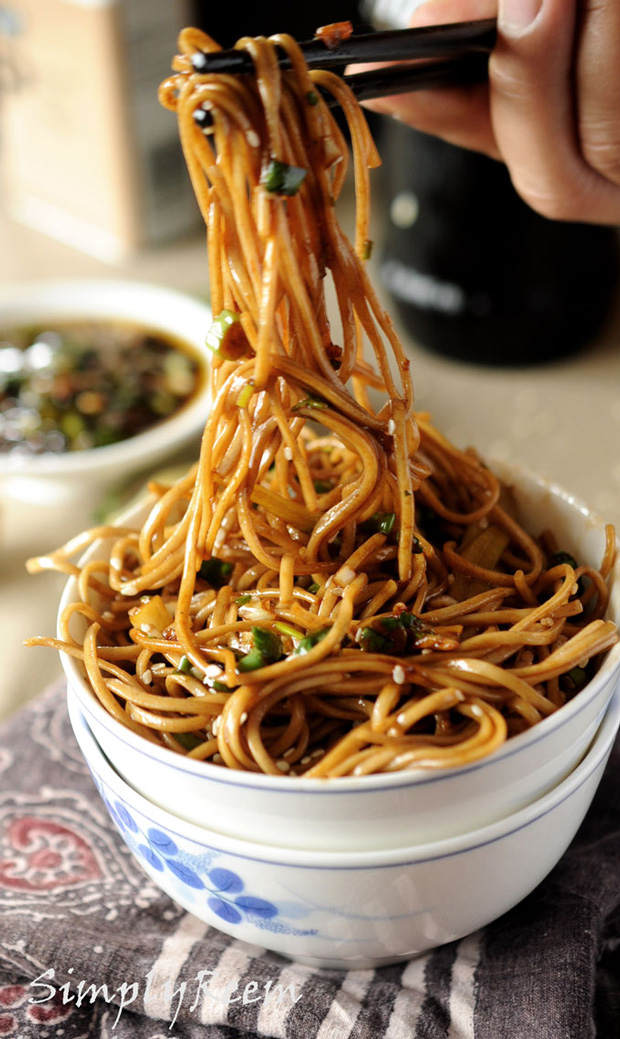Soba: (162, 29, 586, 800)
